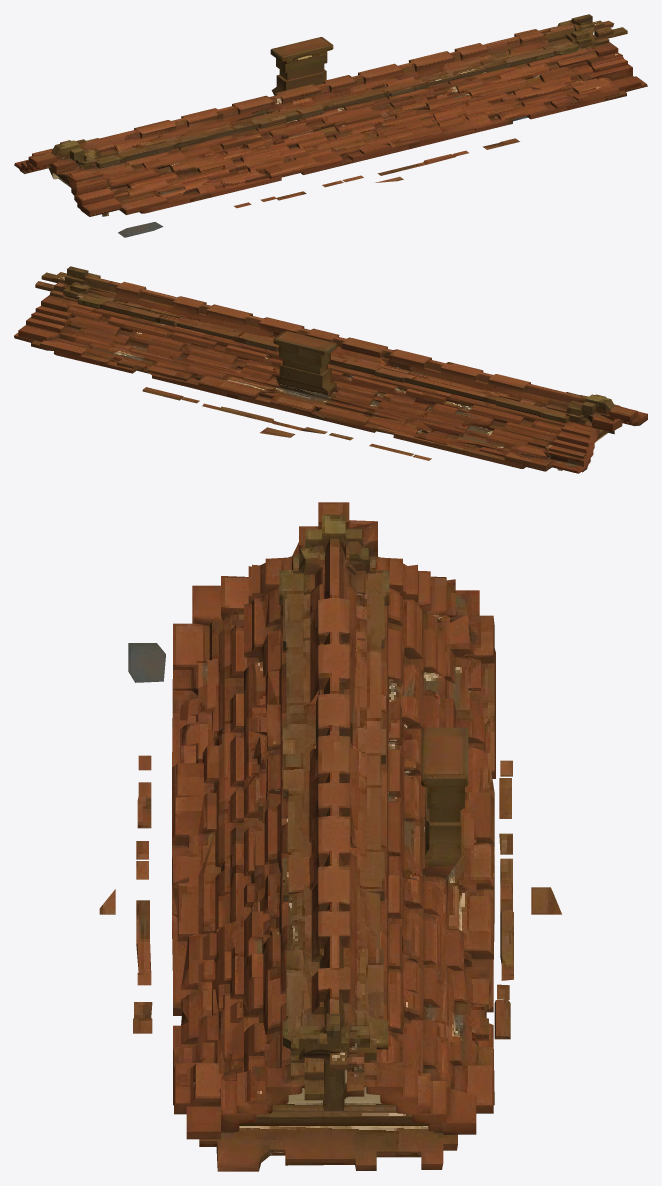
The model's file is stable.glb.
The picture shows the model from 3 angles, top to bottom: view 1: azimuth 30°, elevation 25°; view 2: azimuth 150°, elevation 25°; view 3: azimuth 270°, elevation 25°; orthographic projection. The views are drawn at different scales.
Visible parts, largest first — view 1: stable-roof; view 2: stable-roof; view 3: stable-roof.
Boxes of the visible parts, x1,y1,x2,y2 form: stable-roof: (14, 14, 647, 237); stable-roof: (14, 266, 647, 473); stable-roof: (99, 502, 561, 1171).
Size of the model in its own units: 21.7 by 2.6 by 7.4.
Materials: 1 (1 with a texture image).
